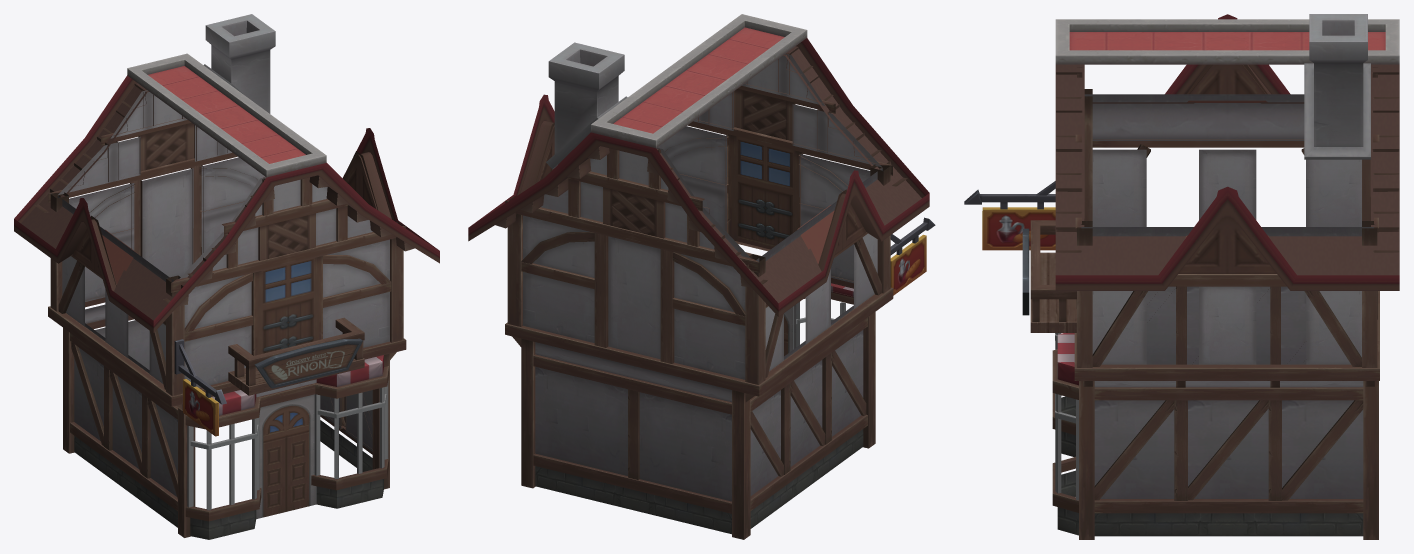
Rendered from scene_luoliante_zhd01.FBX.
The picture shows the model from 3 angles, left to right: view 1: azimuth 30°, elevation 25°; view 2: azimuth 150°, elevation 25°; view 3: azimuth 270°, elevation 25°; orthographic projection. The views are drawn at different scales.
Parts seen in each view (by area): view 1: scene_luoliante_zhd01; view 2: scene_luoliante_zhd01; view 3: scene_luoliante_zhd01.
Part boxes in pixels (left/top/right/bottom): scene_luoliante_zhd01: left=14, top=14, right=439, bottom=539; scene_luoliante_zhd01: left=468, top=14, right=935, bottom=539; scene_luoliante_zhd01: left=964, top=14, right=1399, bottom=539.
Bounding box in the file's own units: 479 × 629 × 511.
